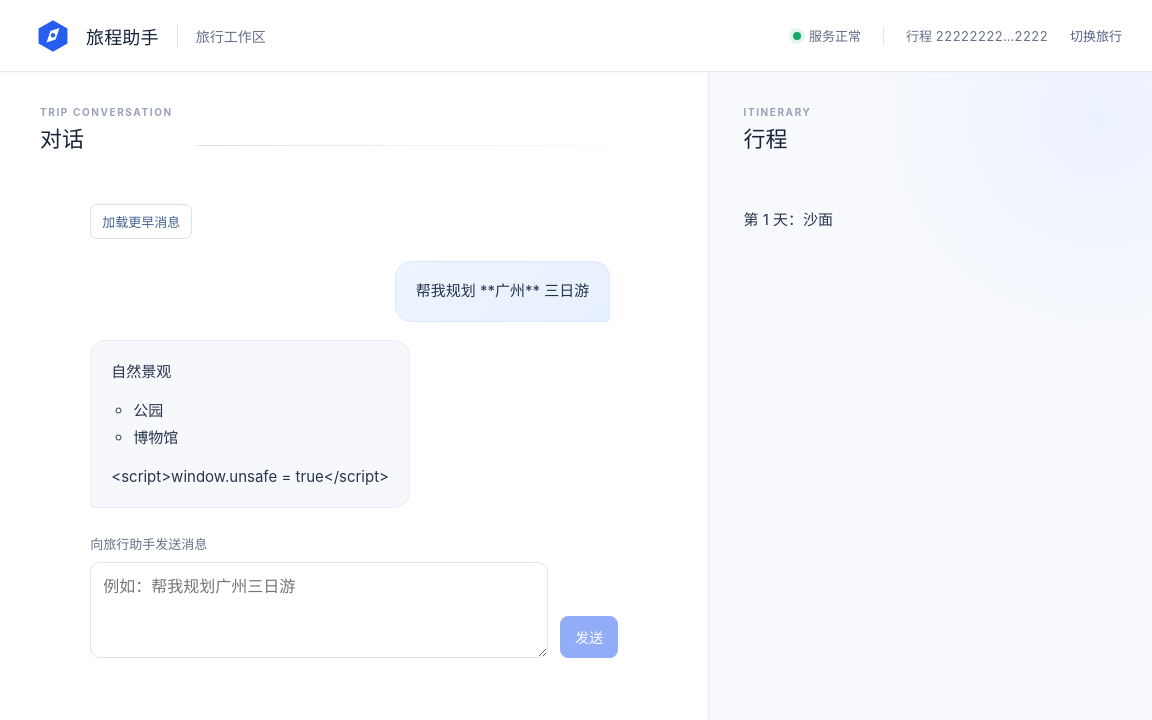
Test case: renders the trip workspace with the current itinerary sidebar
Expected: the message with test id "service-status" reads "服务正常", 809,28 -> 861,44
Expected: the element with test id "current-itinerary-panel" is shown, 744,210 -> 833,229
Click the button "加载更早消息" at (141, 222), box 90,204 -> 192,239
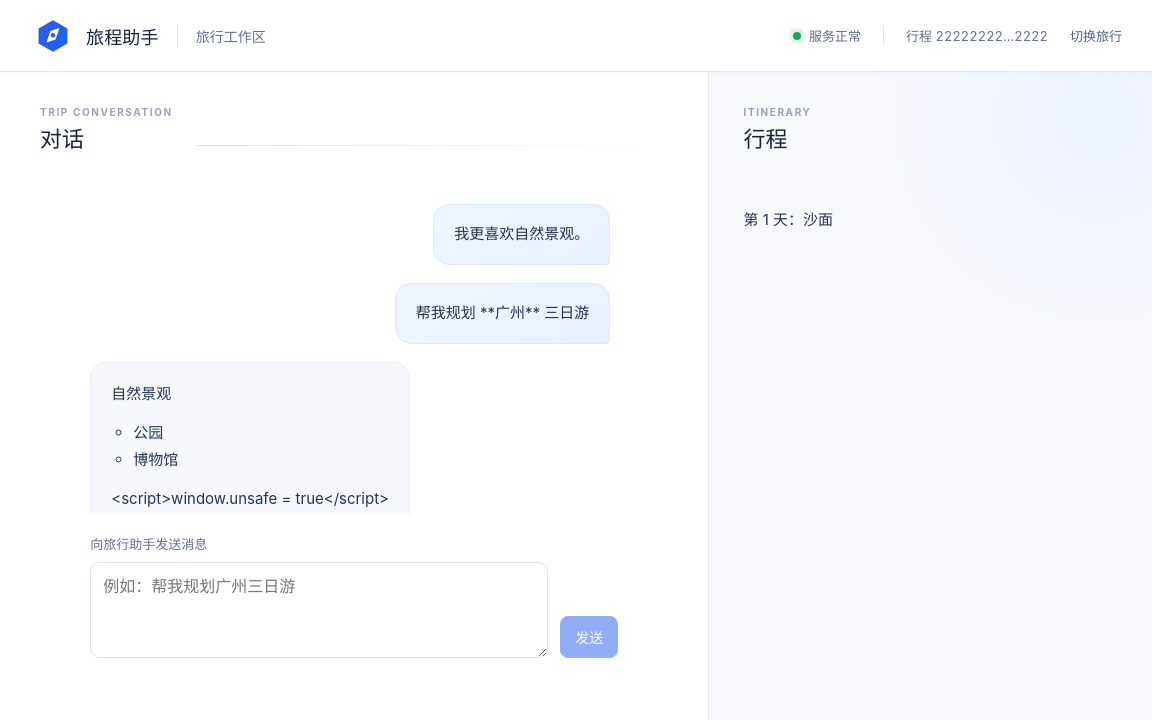
Expected: the element with test id "current-itinerary-panel" reads "第 1 天：沙面", 744,210 -> 833,229
Expected: the text "我更喜欢自然景观。" is shown, 433,204 -> 610,265
